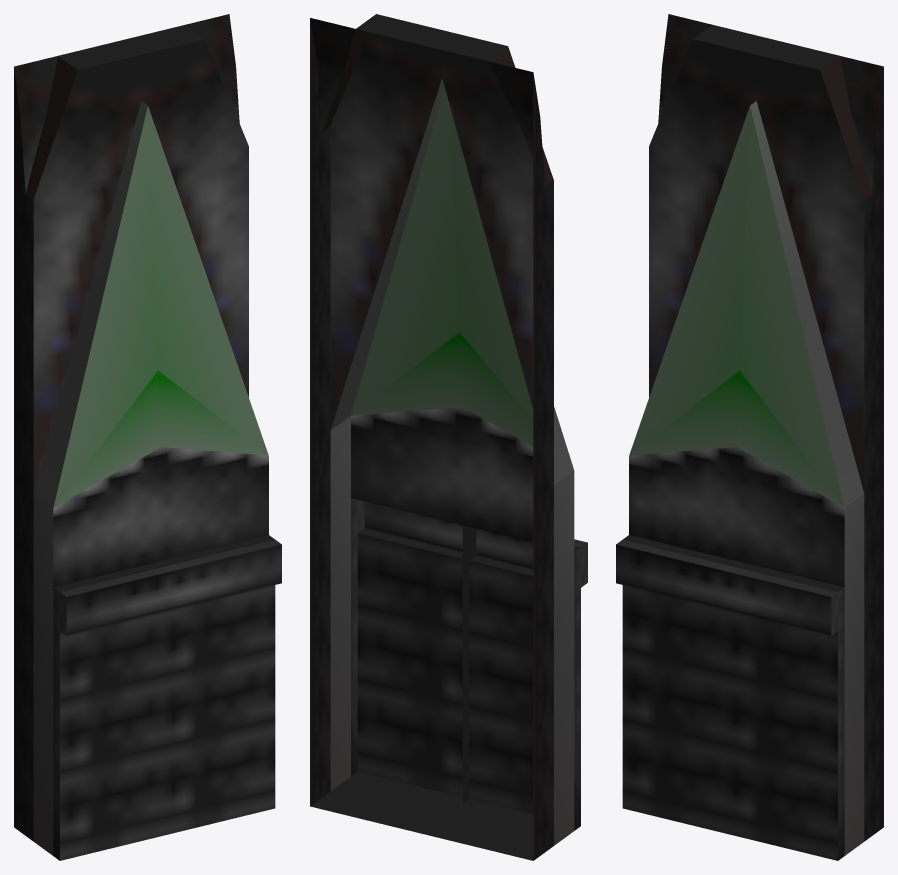
The model's file is lift2.fbx.
3 renders of one model, left to right at view 1: azimuth 30°, elevation 25°; view 2: azimuth 150°, elevation 25°; view 3: azimuth 330°, elevation 25°, orthographic. The views are drawn at different scales.
Visible parts, largest first — view 1: chunk_lift1_lod1; view 2: chunk_lift1_lod1; view 3: chunk_lift1_lod1.
Boxes of the visible parts, x1,y1,x2,y2 form: chunk_lift1_lod1: (14,14,281,860); chunk_lift1_lod1: (310,14,587,860); chunk_lift1_lod1: (616,14,883,860).
Size of the model in its own units: 37.93 by 128 by 16.
